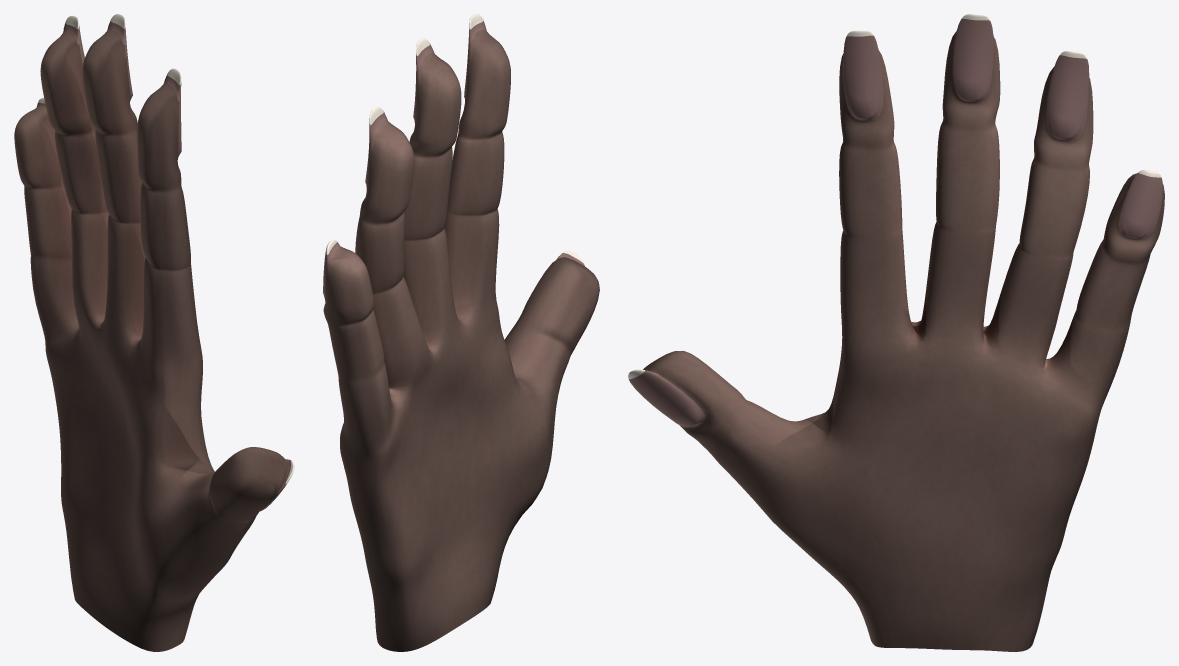
Rendered from human_hand.glb.
3 renders of one model, left to right at view 1: azimuth 30°, elevation 25°; view 2: azimuth 150°, elevation 25°; view 3: azimuth 270°, elevation 25°, orthographic. The views are drawn at different scales.
Parts seen in each view (by area): view 1: Cube; view 2: Cube; view 3: Cube.
Part boxes in pixels (bbox=[...]): Cube: bbox=[14, 14, 294, 651]; Cube: bbox=[323, 14, 599, 651]; Cube: bbox=[628, 14, 1164, 651].
Bounding box in the file's own units: 0.8773 × 5.35 × 4.15.
Materials: 3 (1 with a texture image).
